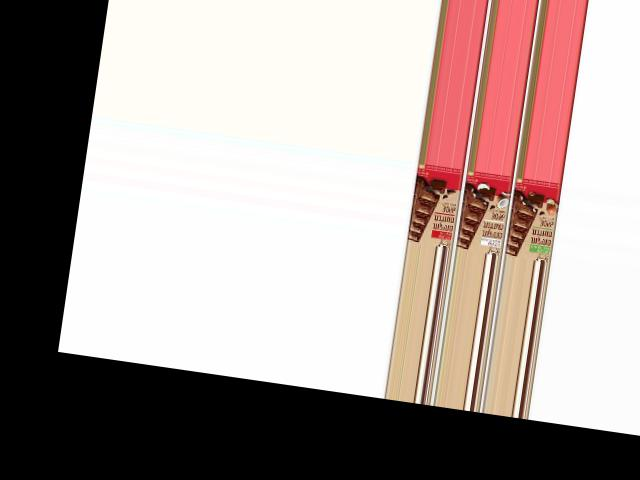chocolate: (505, 176, 564, 262)
